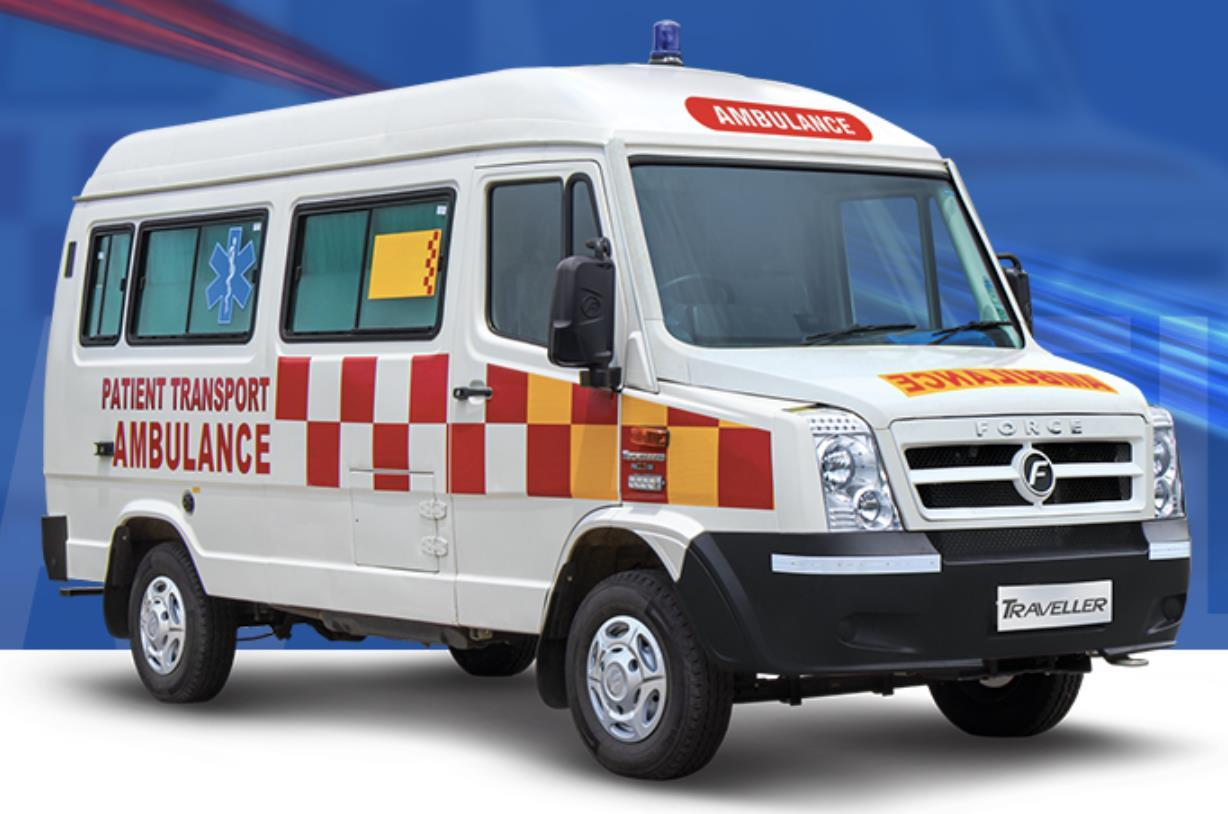ambulance: (63, 16, 1196, 724)
